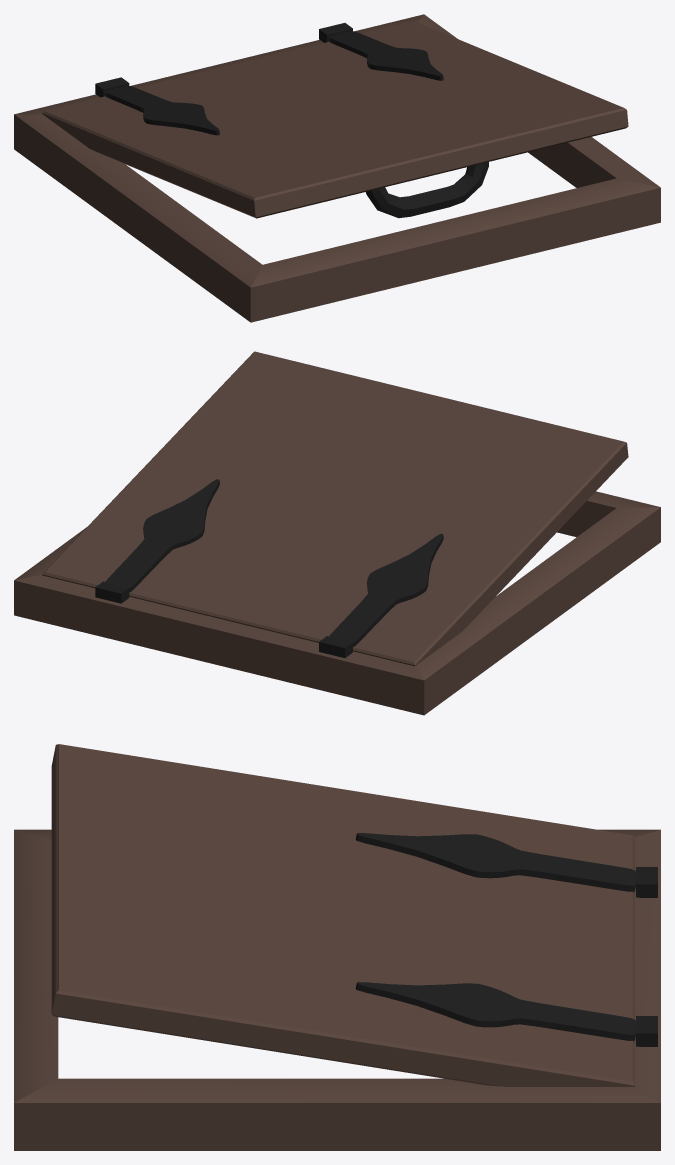
File: Testtrappe.fbx
3 renders of one model, top to bottom at view 1: azimuth 30°, elevation 25°; view 2: azimuth 150°, elevation 25°; view 3: azimuth 270°, elevation 25°, orthographic. The views are drawn at different scales.
Visible parts, largest first — view 1: Cube.002, Cube.004; view 2: Cube.002, Cube.004; view 3: Cube.002, Cube.004.
Boxes of the visible parts, <box> form: Cube.002: <box>42,21,628,218</box>; Cube.004: <box>14,14,660,322</box>; Cube.002: <box>42,351,628,666</box>; Cube.004: <box>14,491,660,715</box>; Cube.002: <box>51,744,635,1087</box>; Cube.004: <box>14,829,660,1150</box>.
Bounding box in the file's own units: 220 × 55.19 × 220.
